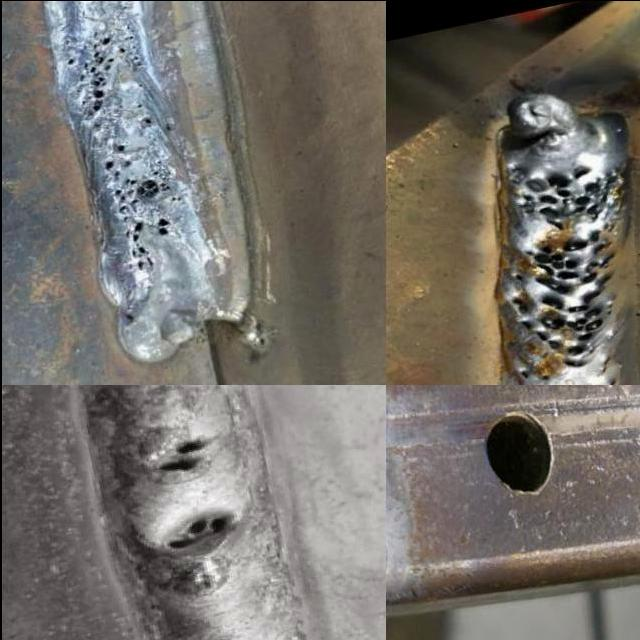defect: (507, 224, 616, 365), (98, 138, 180, 278), (516, 161, 621, 231), (62, 28, 131, 122), (143, 506, 246, 564), (140, 429, 227, 482), (134, 107, 155, 130), (594, 350, 615, 370), (515, 367, 531, 382), (539, 370, 552, 380)
